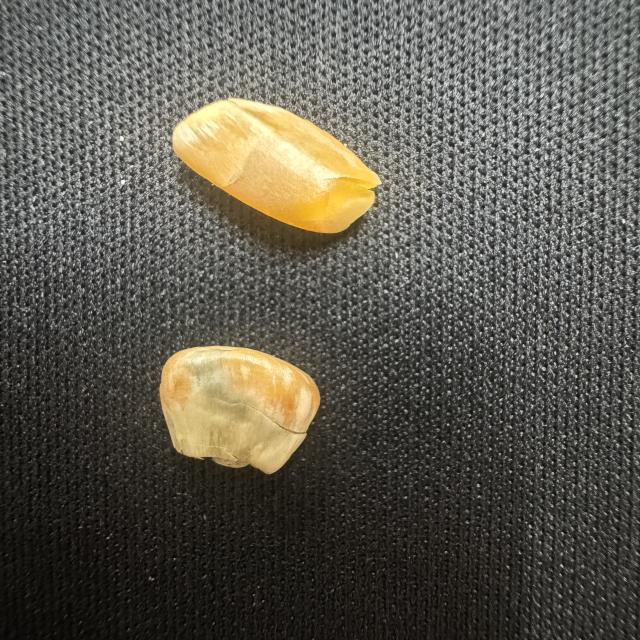Bad-Seed: (155, 91, 392, 239), (157, 337, 341, 486)
